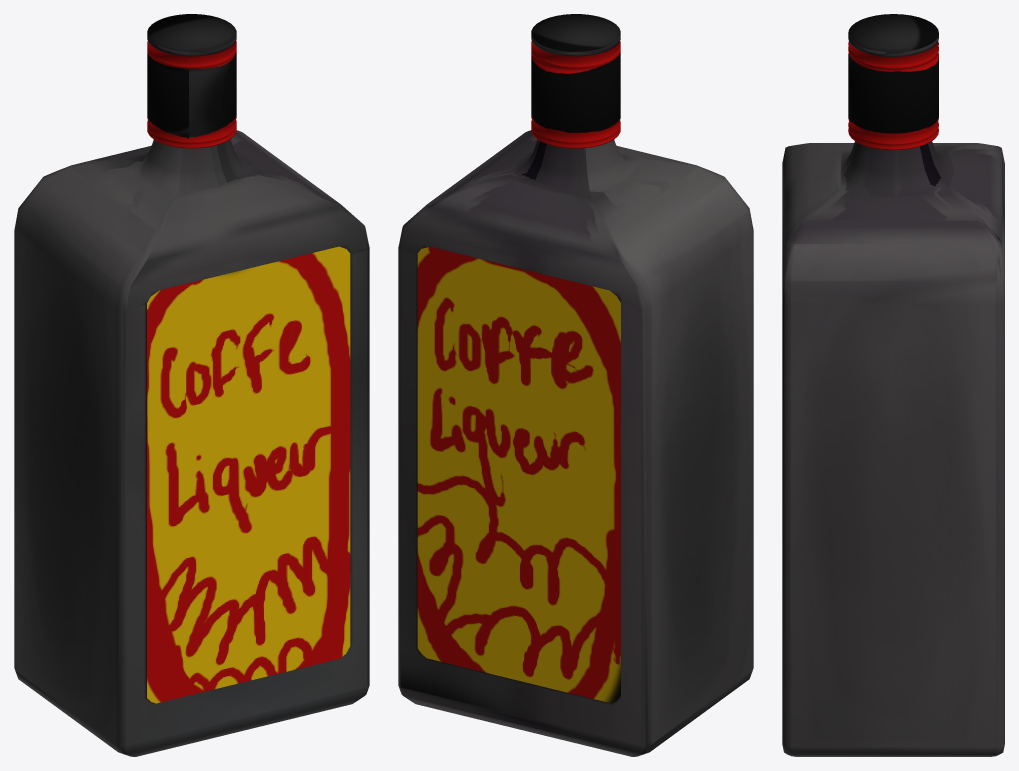
Rendered from Coffee Liqueur.fbx.
The picture shows the model from 3 angles, left to right: view 1: azimuth 30°, elevation 25°; view 2: azimuth 150°, elevation 25°; view 3: azimuth 270°, elevation 25°; orthographic projection.
Visible parts, largest first — view 1: Jager; view 2: Jager; view 3: Jager.
Boxes of the visible parts, left/top/right/bottom form: Jager: left=14, top=14, right=369, bottom=756; Jager: left=398, top=14, right=753, bottom=756; Jager: left=782, top=14, right=1004, bottom=756.
Size of the model in its own units: 174 by 435 by 131.
